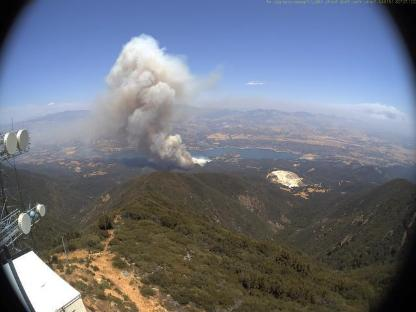smoke: (60, 29, 222, 167)
